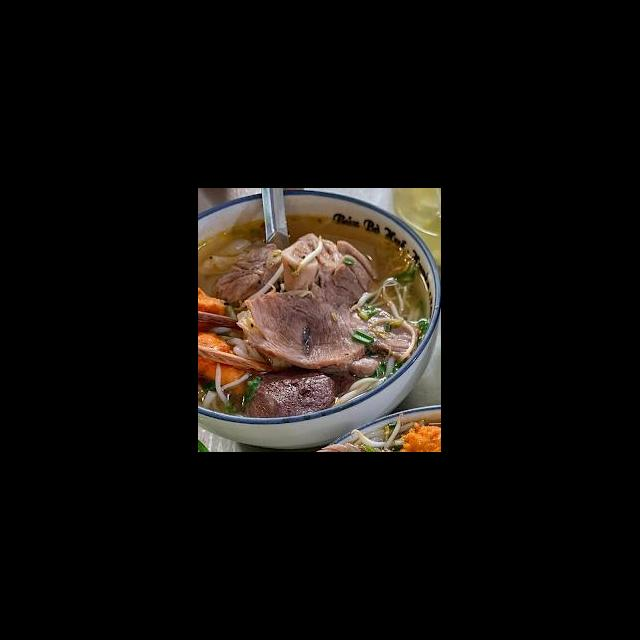bun: (204, 322, 288, 370)
bun bo: (200, 200, 442, 451)
thit bo: (236, 286, 424, 374), (306, 235, 382, 312), (212, 243, 288, 306)
